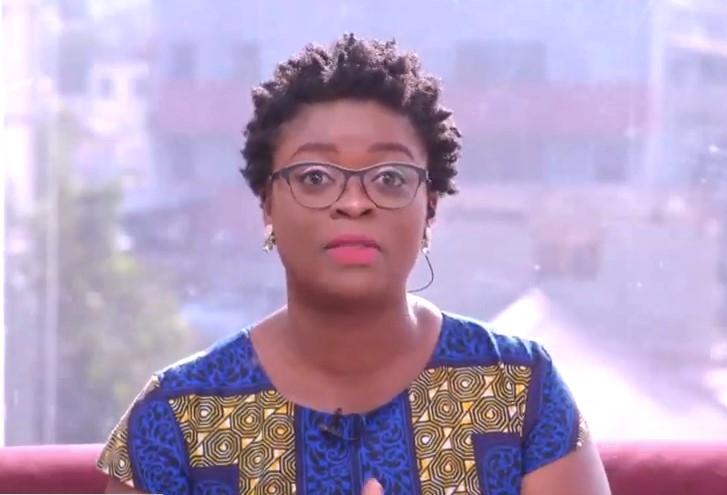face_no_mask: (258, 73, 444, 319)
